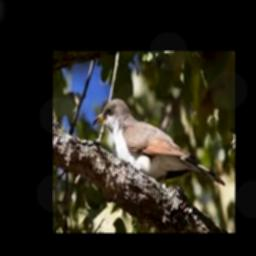Cuckoo: (92, 98, 225, 187)
